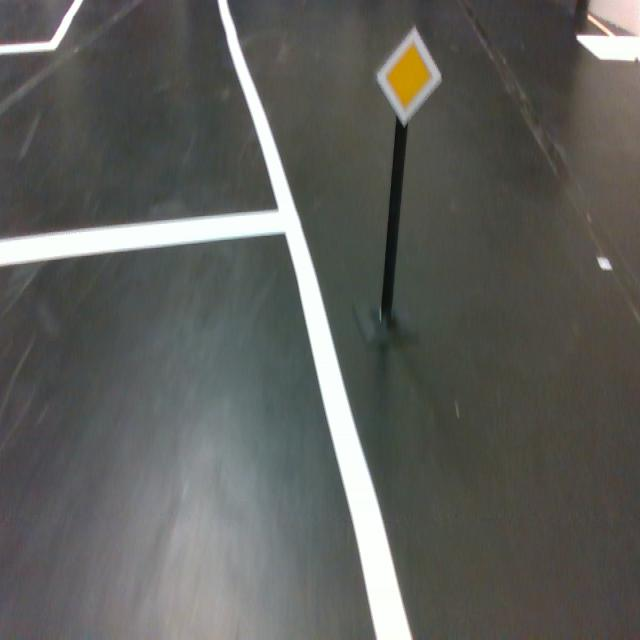priority-sign: (374, 25, 442, 129)
